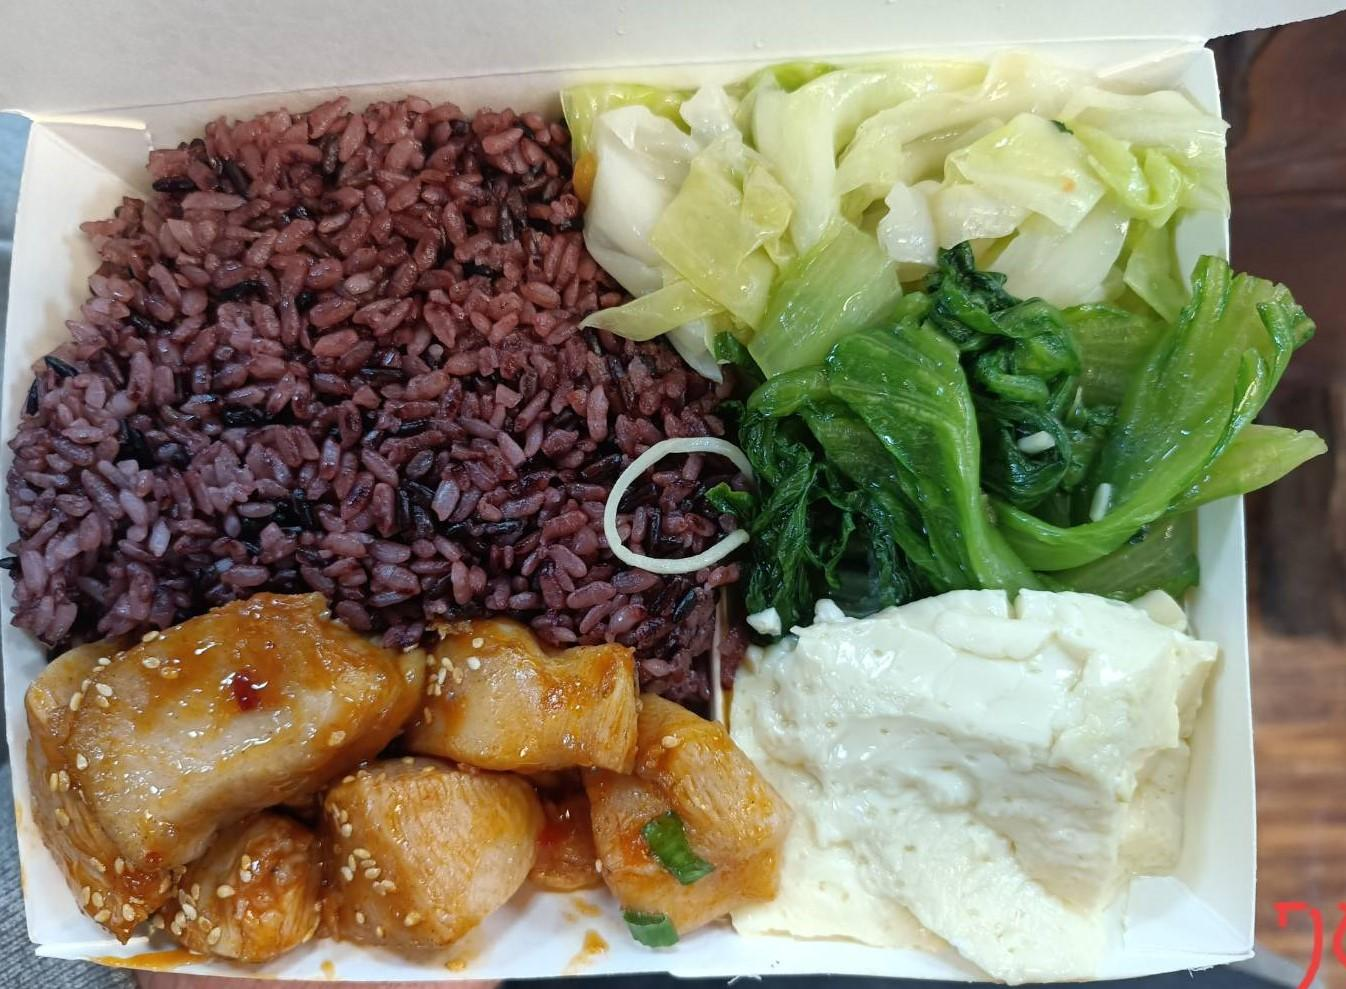big grilled chicken leg: (10, 52, 1273, 989)
braised fish: (30, 92, 727, 685)
braised fish fillet: (735, 233, 1326, 616), (739, 589, 1225, 971), (542, 67, 1215, 322)
braised pork: (28, 600, 784, 957)
